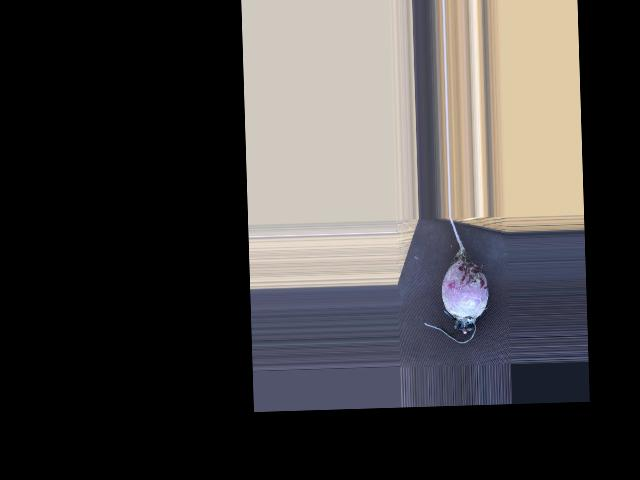beet: (421, 216, 490, 344)
